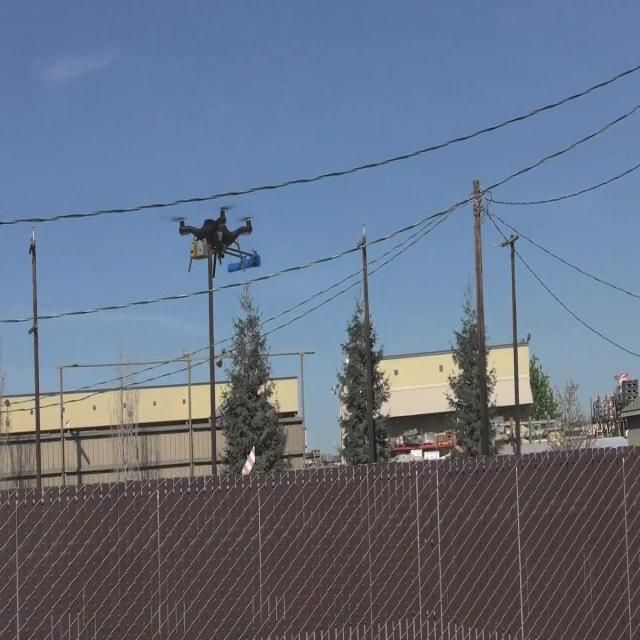UAV: (173, 204, 261, 273)
